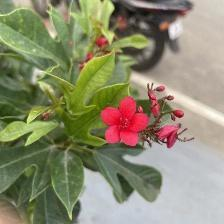jatropha: (102, 97, 152, 154)
